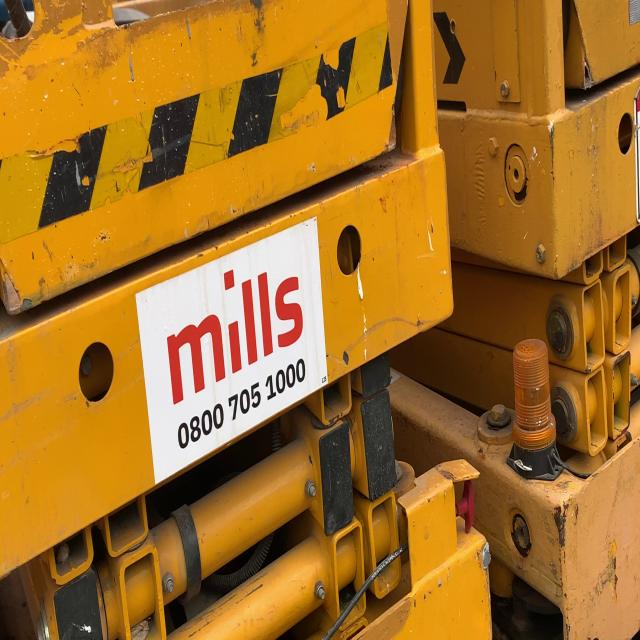Adesivos: (131, 207, 332, 495)
